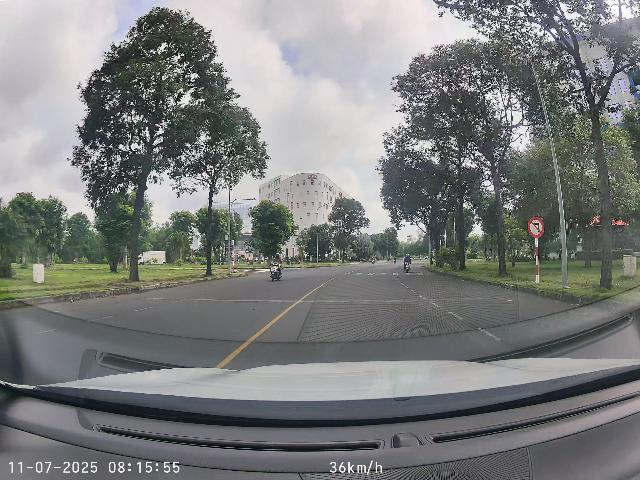123a-cam-re-trai: (528, 217, 545, 238)
